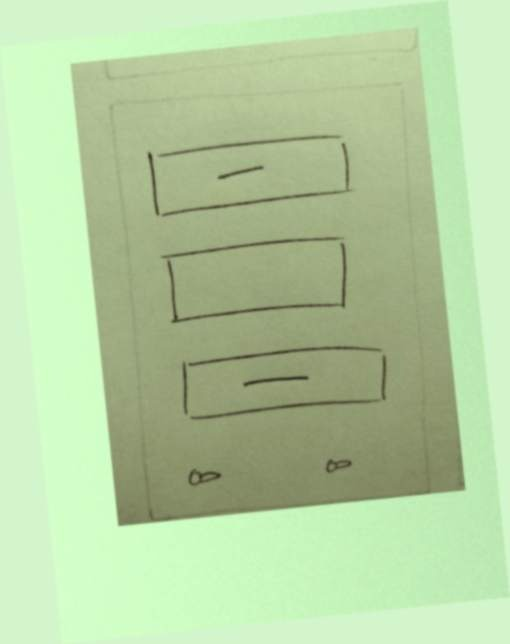button: (167, 331, 402, 433), (138, 121, 360, 224)
switch: (311, 448, 362, 483), (181, 456, 230, 489)
text_input: (152, 229, 361, 332)
